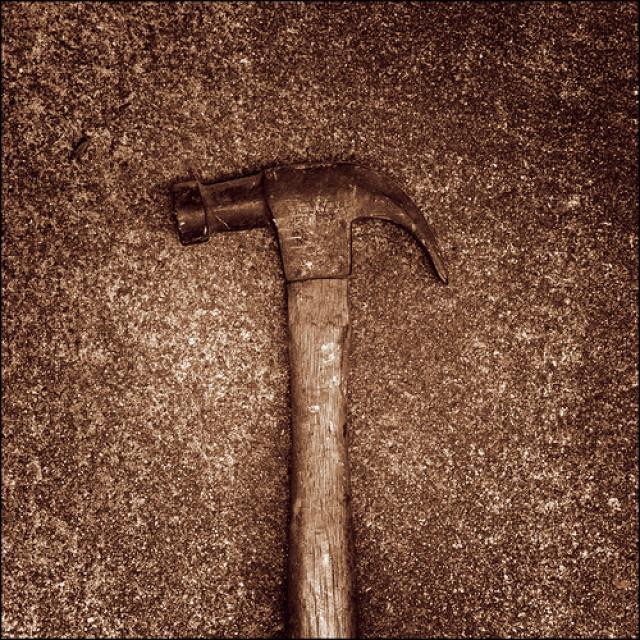hammer: (164, 153, 457, 640)
